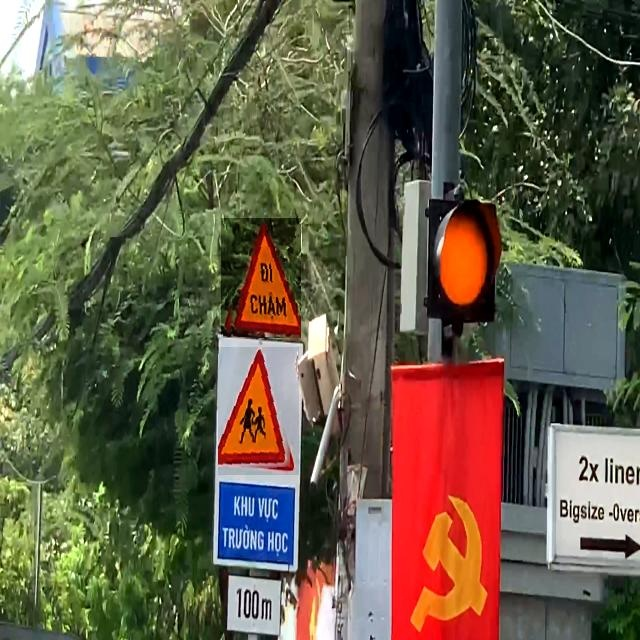bien_nguy_hiem: (218, 347, 299, 475), (221, 218, 301, 338)
